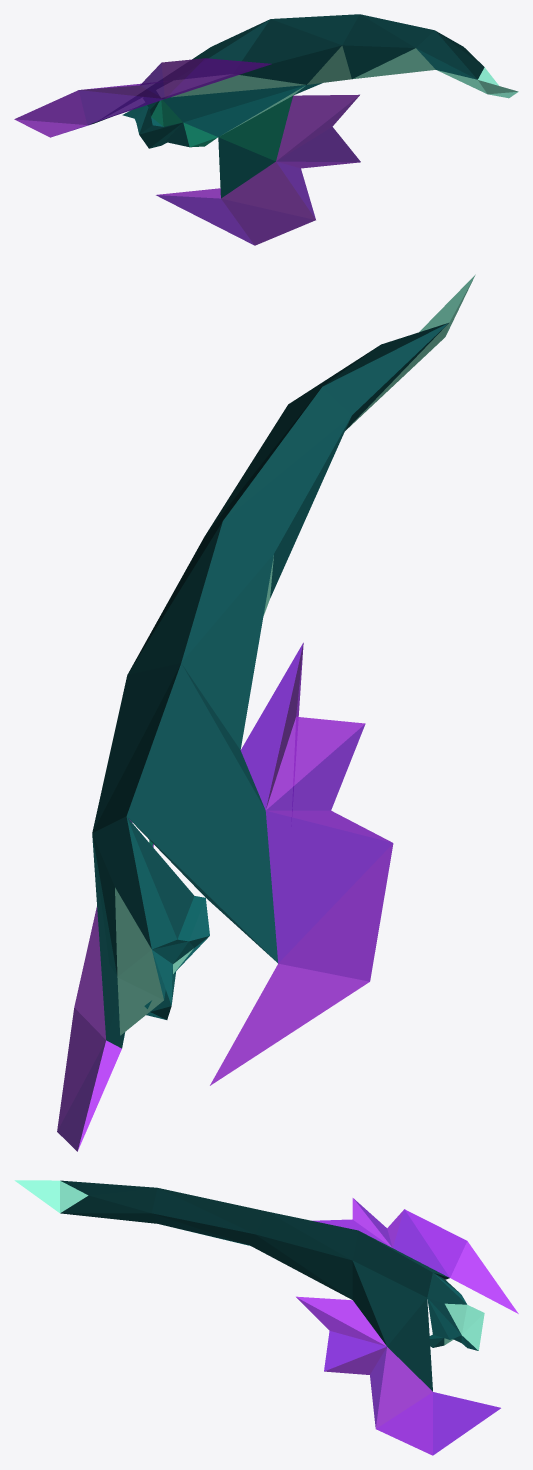
File: player_toxic_blowpipe.glb
The picture shows the model from 3 angles, top to bottom: view 1: azimuth 30°, elevation 25°; view 2: azimuth 150°, elevation 25°; view 3: azimuth 270°, elevation 25°; orthographic projection. The views are drawn at different scales.
Bounding box in the file's own units: 40.99 × 52.99 × 88.
Materials: 2 (2 with a texture image).
